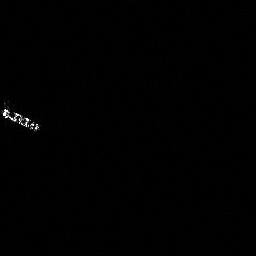ship: (1, 104, 43, 134)
